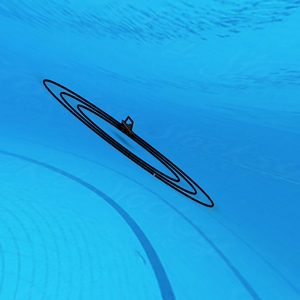circle: (38, 68, 218, 212)
submarine: (119, 116, 137, 138)
